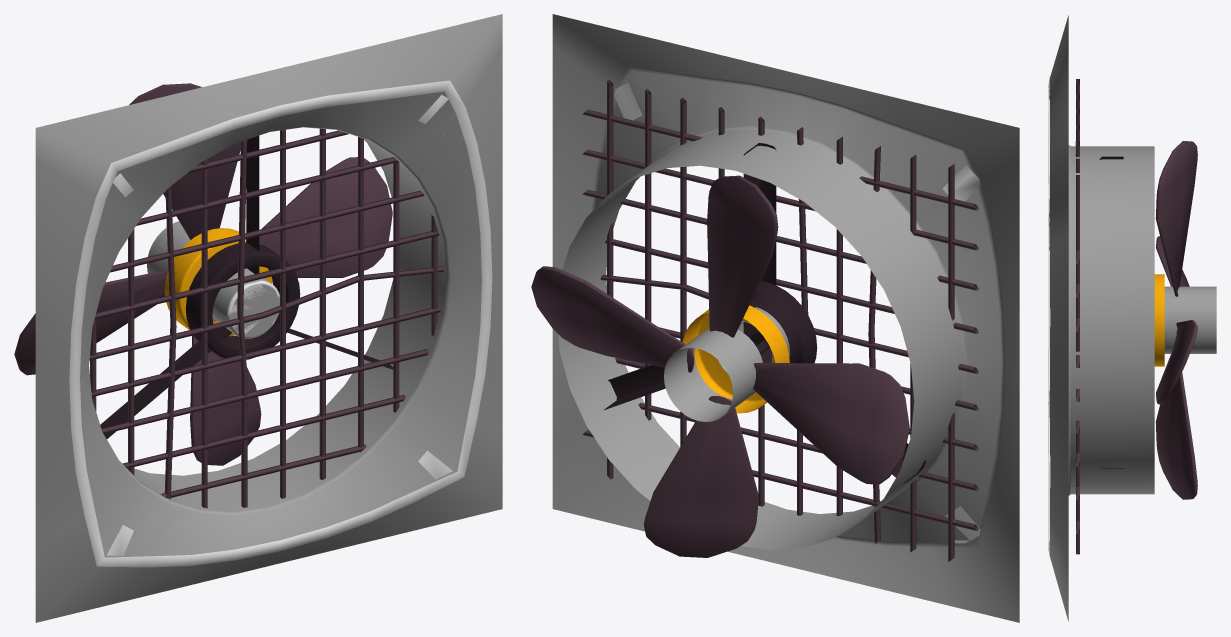
Rendered from VentFan.fbx.
3 views of the same model, side by side, from view 1: azimuth 30°, elevation 25°; view 2: azimuth 150°, elevation 25°; view 3: azimuth 270°, elevation 25° (orthographic). The views are drawn at different scales.
Parts seen in each view (by area): view 1: Cylinder.002, Cylinder.004, Cylinder.006, StylizedHardSurface_Panels_002.083, Cylinder.005, StylizedHardSurface_Decals_001.079_projected, StylizedHardSurface_Decals_009.002_projected; view 2: Cylinder.002, Cylinder.006, Cylinder.004, Cylinder.005, StylizedHardSurface_Decals_001.079_projected; view 3: Cylinder.002, Cylinder.006, Cylinder.005, Cylinder.004, StylizedHardSurface_Panels_002.083.
Boxes of the visible parts, <box> form: Cylinder.002: <box>35,14,502,622</box>; Cylinder.004: <box>89,128,443,508</box>; Cylinder.006: <box>14,83,392,465</box>; StylizedHardSurface_Panels_002.083: <box>69,80,492,567</box>; Cylinder.005: <box>147,221,279,338</box>; StylizedHardSurface_Decals_001.079_projected: <box>95,94,466,563</box>; StylizedHardSurface_Decals_009.002_projected: <box>199,269,279,334</box>; Cylinder.002: <box>552,14,1019,622</box>; Cylinder.006: <box>531,175,909,557</box>; Cylinder.004: <box>582,79,978,561</box>; Cylinder.005: <box>664,305,790,421</box>; StylizedHardSurface_Decals_001.079_projected: <box>614,82,980,543</box>; Cylinder.002: <box>1049,15,1154,621</box>; Cylinder.006: <box>1155,141,1197,499</box>; Cylinder.005: <box>1154,274,1216,366</box>; Cylinder.004: <box>1075,79,1079,554</box>; StylizedHardSurface_Panels_002.083: <box>1048,76,1049,554</box>.
Size of the model in its own units: 130 by 132 by 48.11.
